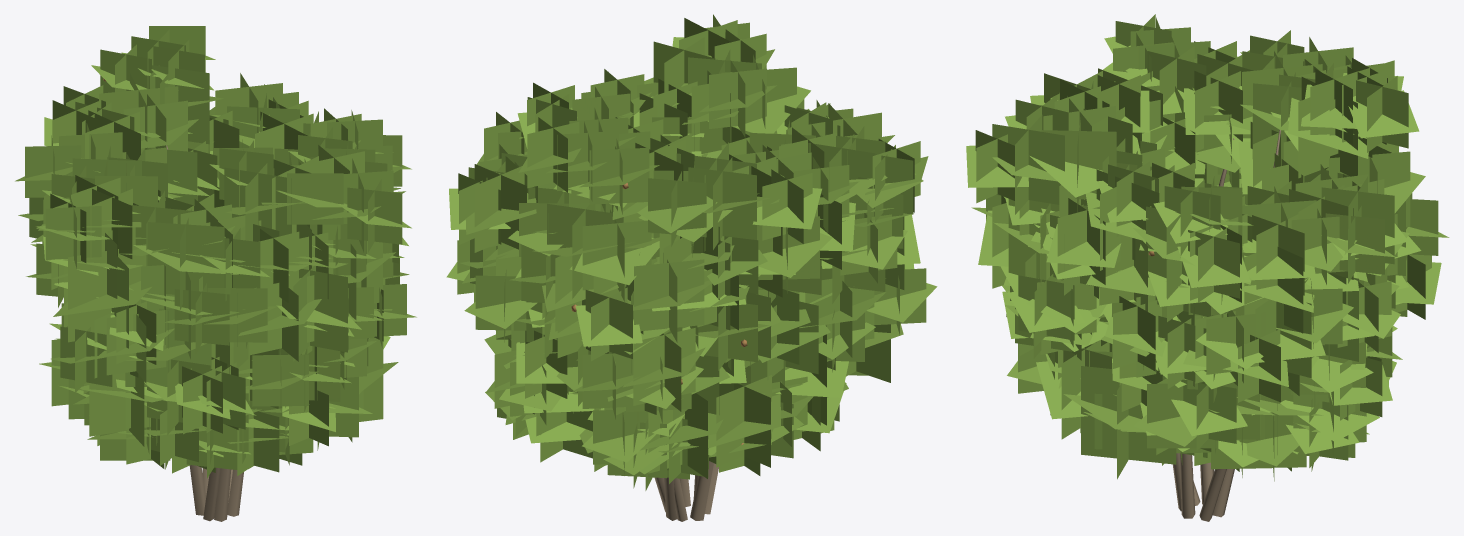
File: noisetier_2_f3_jeu.glb
The picture shows the model from 3 angles, left to right: view 1: azimuth 30°, elevation 25°; view 2: azimuth 150°, elevation 25°; view 3: azimuth 270°, elevation 25°; orthographic projection. The views are drawn at different scales.
Parts seen in each view (by area): view 1: Noisetier_T2_f3_Leger; view 2: Noisetier_T2_f3_Leger; view 3: Noisetier_T2_f3_Leger.
Boxes of the visible parts, x1,y1,x2,y2 form: Noisetier_T2_f3_Leger: [15, 26, 416, 521]; Noisetier_T2_f3_Leger: [446, 14, 937, 521]; Noisetier_T2_f3_Leger: [966, 14, 1449, 521].
Bounding box in the file's own units: 4.23 × 4.26 × 4.16.
